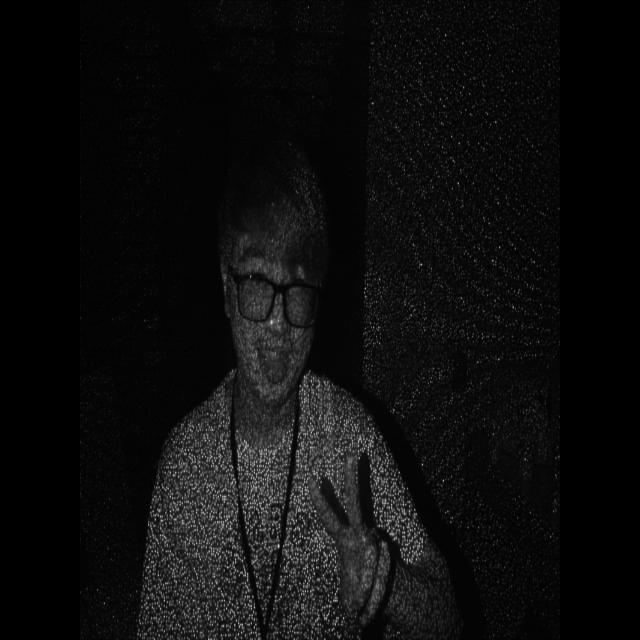V: (301, 436, 407, 634)
